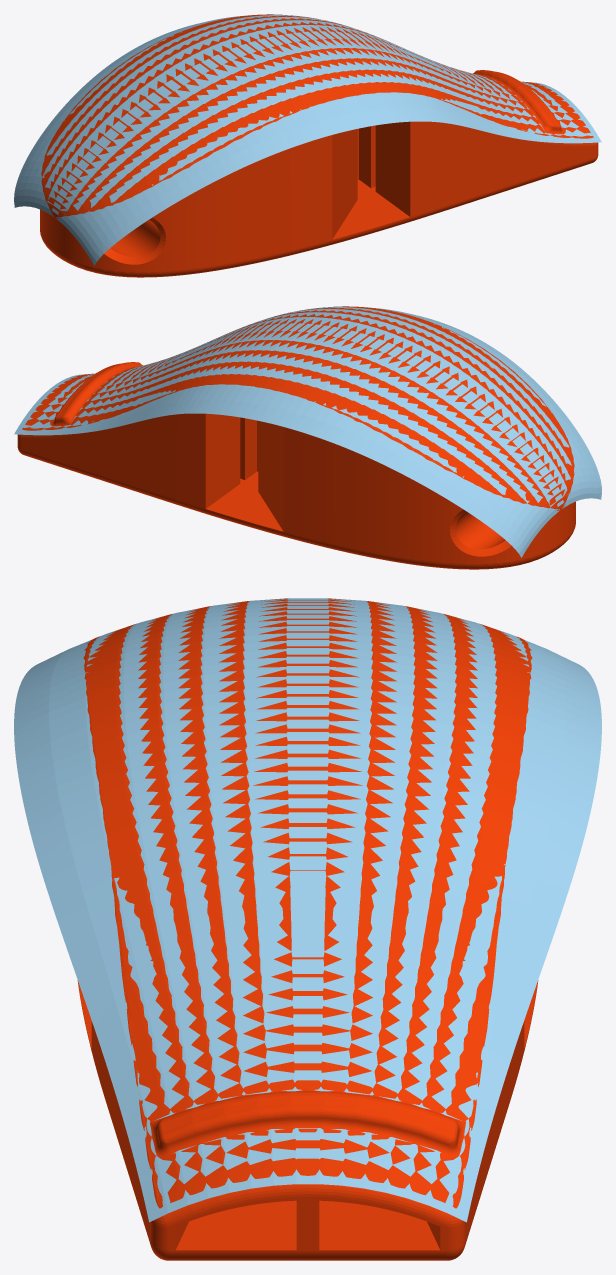
Rendered from The_whistle.dae.
The picture shows the model from 3 angles, top to bottom: view 1: azimuth 30°, elevation 25°; view 2: azimuth 150°, elevation 25°; view 3: azimuth 270°, elevation 25°; orthographic projection. The views are drawn at different scales.
Parts seen in each view (by area): view 1: 5a7a0e0e302a490fc789169c (×2); view 2: 5a7a0e0e302a490fc789169c (×2); view 3: 5a7a0e0e302a490fc789169c (×2).
Part boxes in pixels (x1,y1,x2,y2): 5a7a0e0e302a490fc789169c (×2): (14, 14, 601, 277); 5a7a0e0e302a490fc789169c (×2): (14, 306, 601, 569); 5a7a0e0e302a490fc789169c (×2): (14, 598, 601, 1260).
Size of the model in its own units: 0.064 by 0.0322 by 0.0198.
